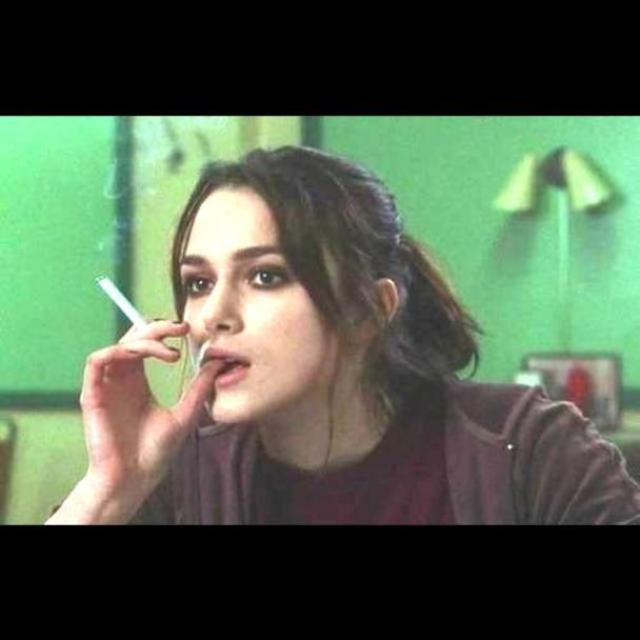rokok: (87, 268, 149, 328)
